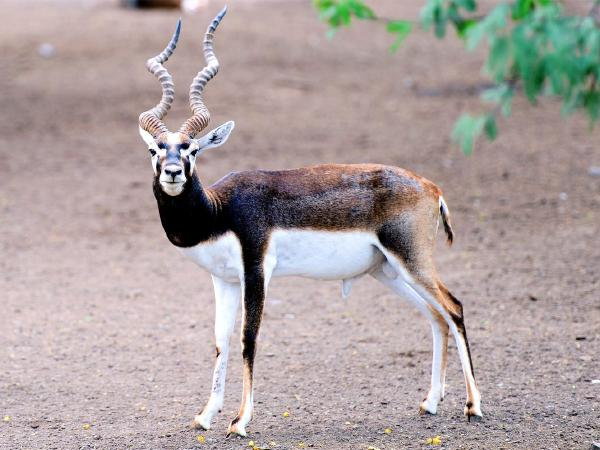Blackbuck: (136, 9, 489, 436)
